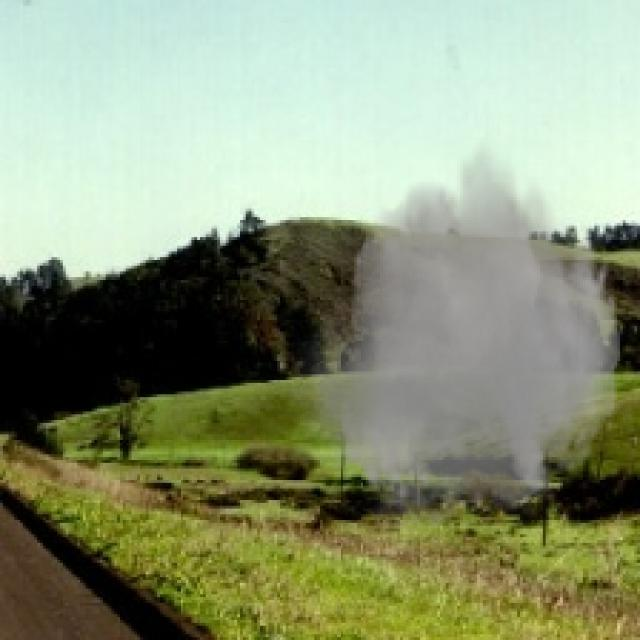smoke: (286, 131, 628, 546)
